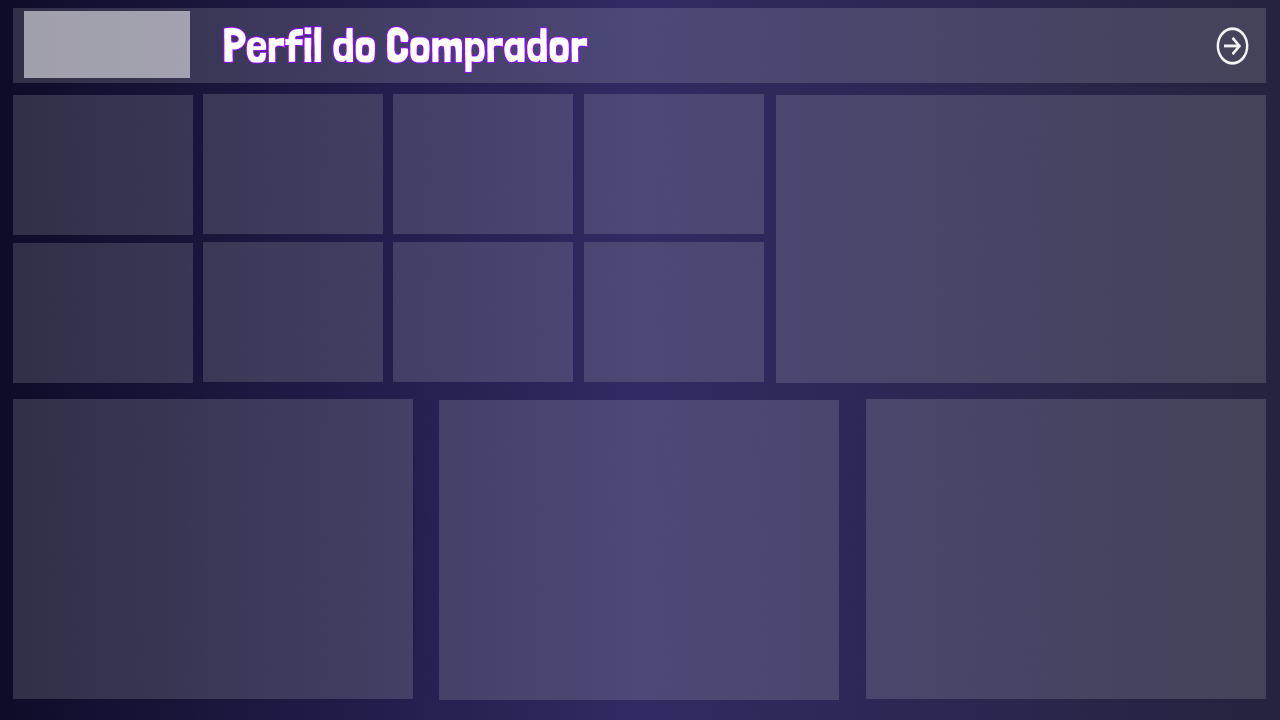

The page's visual inventory and layout, read from the dashboard file:
{"tool":"powerbi","page":{"name":"Página 1","canvas":[1280,720],"ordinal":0},"visuals":[{"type":"card","title":"Homens","fields":{"Values":["Medidas.CompradoresHomens"]},"box":[202.7,95.1,186.7,139.6],"z":0},{"type":"card","title":"Mulheres","fields":{"Values":["Medidas.CompradoresMulheres"]},"box":[391.1,95.1,189.3,139.6],"z":1000},{"type":"card","title":"Compradores Homens","fields":{"Values":["Medidas.%CompradorHomem"]},"box":[202.7,243.6,183.1,137.8],"z":2000},{"type":"card","title":"Compradores Mulheres","fields":{"Values":["Medidas.%CompradorMulher"]},"box":[391.1,243.6,182.2,137.8],"z":3000},{"type":"card","title":"Tem Filhos","fields":{"Values":["Medidas.CompradorresComFilho"]},"box":[580.4,95.1,189.3,139.6],"z":4000},{"type":"card","title":"Compradores com Filho","fields":{"Values":["Medidas.%CompradoresComFilho"]},"box":[580.4,241.8,183.1,142.2],"z":5000},{"type":"clusteredBarChart","title":"Faixa Etária","fields":{"Category":["Compradores.FaixaEtaria"],"Y":["Medidas.Total de Compradores"]},"box":[781.3,95.1,481.8,286.2],"z":6000},{"type":"columnChart","title":"Estado civil","fields":{"Y":["Medidas.Total de Compradores"],"Category":["Compradores.Estado civil"]},"box":[13.3,405.3,397.3,290.7],"z":7000},{"type":"clusteredBarChart","title":"Estado","fields":{"Category":["Compradores.De qual estado você é?"],"Y":["Medidas.Total de Compradores"]},"box":[450.7,405.3,381.3,290.7],"z":8000},{"type":"columnChart","title":"Origem do Lead","fields":{"Y":["Medidas.Total de Compradores"],"Category":["Compradores.De onde você me conheceu?"]},"box":[866.7,396.4,396.4,299.6],"z":9000},{"type":"card","title":"Total Compradores","fields":{"Values":["Medidas.Total de Compradores"]},"box":[0,92.4,199.1,142.2],"z":10000},{"type":"card","title":"Taxa de Conversão","fields":{"Values":["Medidas.Taxa de Conversão"]},"box":[7.1,248,185.8,133.3],"z":11000},{"type":"actionButton","box":[1214.2,22.2,37.3,45.3],"z":14000}]}

Visuals, with their boxes in screenshot pixels (x1, y1, x2, y2), scaled from the page's 1280x720 canvas onto the 1280x720 screenshot:
"Homens" card: (203, 95, 389, 235)
"Mulheres" card: (391, 95, 580, 235)
"Compradores Homens" card: (203, 244, 386, 381)
"Compradores Mulheres" card: (391, 244, 573, 381)
"Tem Filhos" card: (580, 95, 770, 235)
"Compradores com Filho" card: (580, 242, 764, 384)
"Faixa Etária" clusteredBarChart: (781, 95, 1263, 381)
"Estado civil" columnChart: (13, 405, 411, 696)
"Estado" clusteredBarChart: (451, 405, 832, 696)
"Origem do Lead" columnChart: (867, 396, 1263, 696)
"Total Compradores" card: (0, 92, 199, 235)
"Taxa de Conversão" card: (7, 248, 193, 381)
actionButton: (1214, 22, 1252, 68)
